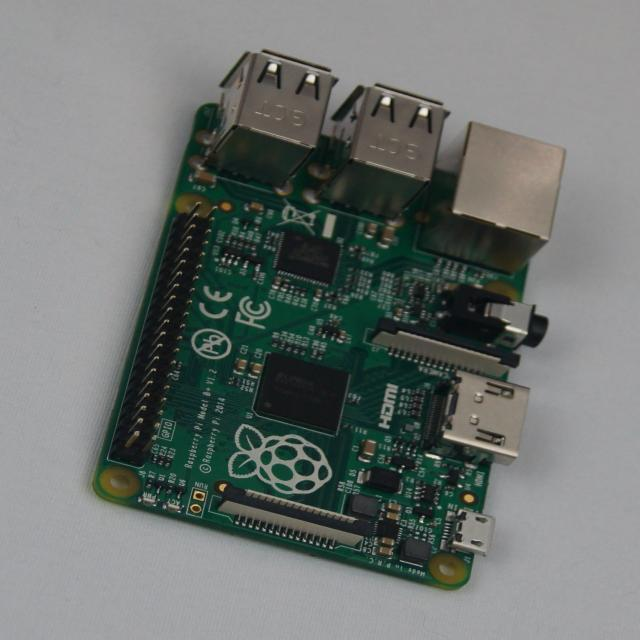Raspberry Pi 1 B-: (96, 51, 564, 589)
